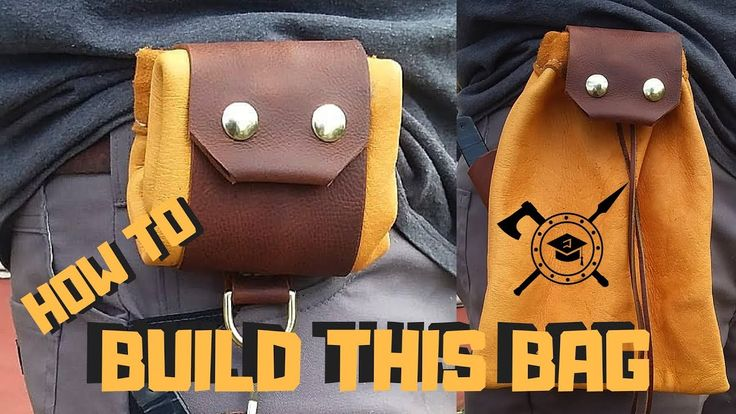cuero: (175, 24, 683, 300)
